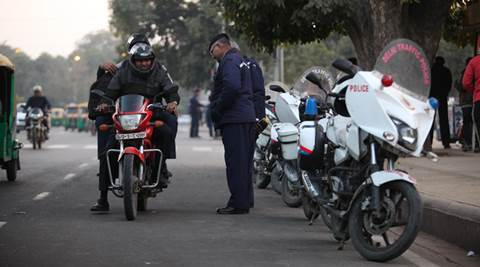helmet: (129, 43, 158, 74)
